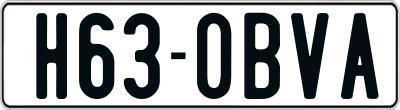0: (195, 10, 232, 96)
3: (123, 11, 161, 101)
6: (79, 10, 119, 101)
A: (341, 10, 381, 100)
B: (244, 12, 282, 101)
H: (34, 11, 70, 98)
V: (291, 10, 332, 96)
